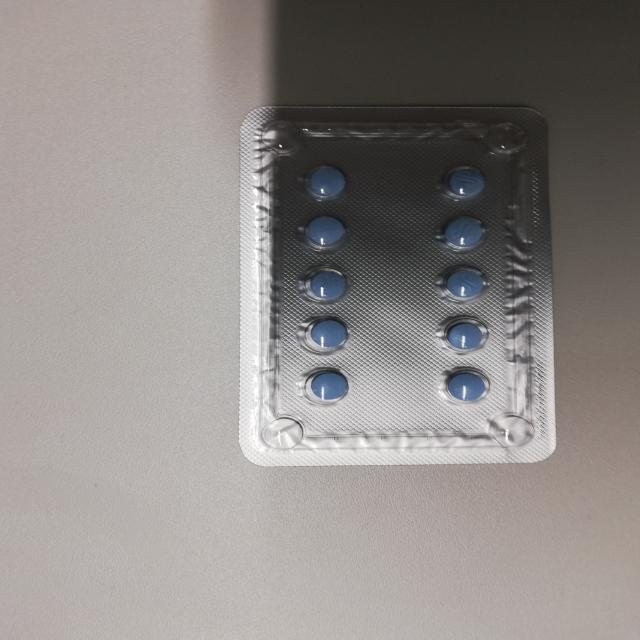Pill: (284, 362, 371, 410), (289, 261, 367, 308), (429, 365, 504, 411), (289, 314, 367, 357), (435, 311, 498, 358), (435, 262, 500, 307), (432, 164, 498, 208), (428, 214, 500, 254), (292, 162, 358, 205), (289, 215, 355, 254)
